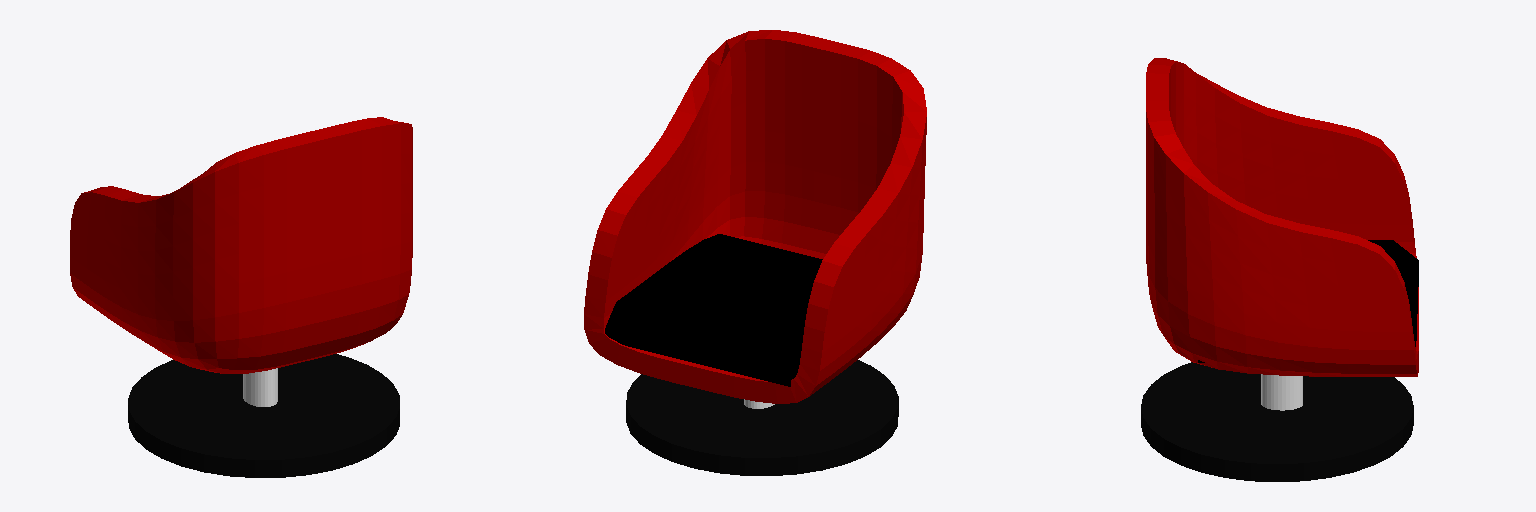
Rendered from sofa.obj.
3 views of the same model, side by side, from view 1: azimuth 30°, elevation 25°; view 2: azimuth 150°, elevation 25°; view 3: azimuth 270°, elevation 25° (orthographic).
Visible parts, largest first — view 1: Cube_Cube.001, Cylinder.001, Cylinder; view 2: Cube_Cube.001, Cube.001_Cube.002, Cylinder.001; view 3: Cube_Cube.001, Cylinder.001, Cylinder, Cube.001_Cube.002.
Boxes of the visible parts, x1,y1,x2,y2 form: Cube_Cube.001: [70, 117, 412, 373]; Cylinder.001: [128, 354, 399, 477]; Cylinder: [243, 368, 277, 406]; Cube_Cube.001: [584, 30, 926, 403]; Cube.001_Cube.002: [605, 234, 822, 386]; Cylinder.001: [626, 360, 898, 475]; Cube_Cube.001: [1146, 58, 1418, 376]; Cylinder.001: [1141, 362, 1413, 481]; Cylinder: [1261, 374, 1302, 410]; Cube.001_Cube.002: [1198, 240, 1418, 362].
Size of the model in its own units: 2.12 by 2.67 by 2.04.